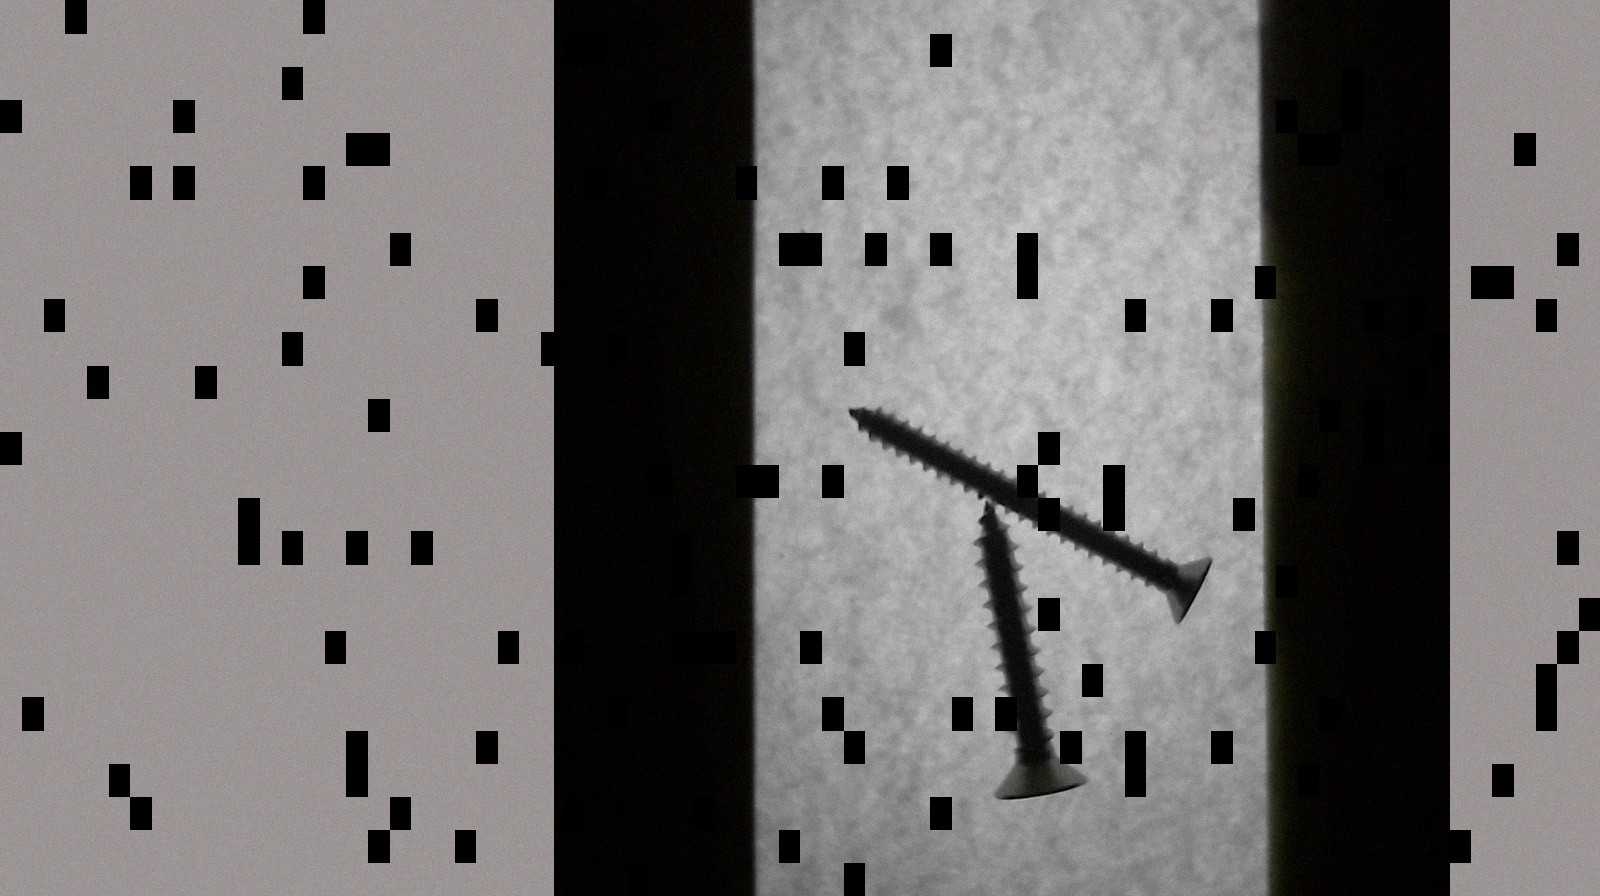S001: (966, 486, 1096, 808)
S002: (827, 385, 1219, 628)
